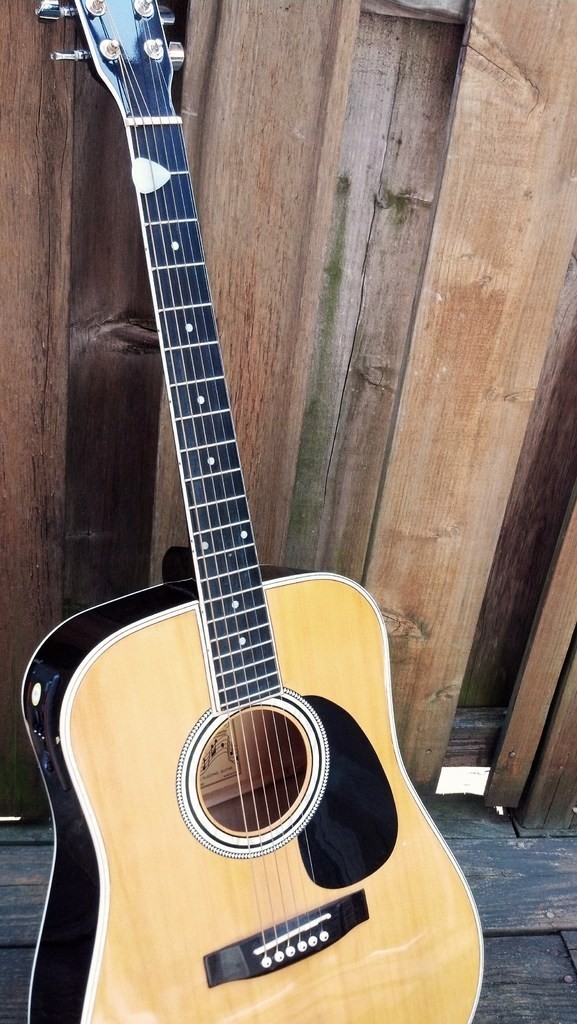guitar: (22, 0, 484, 1024)
